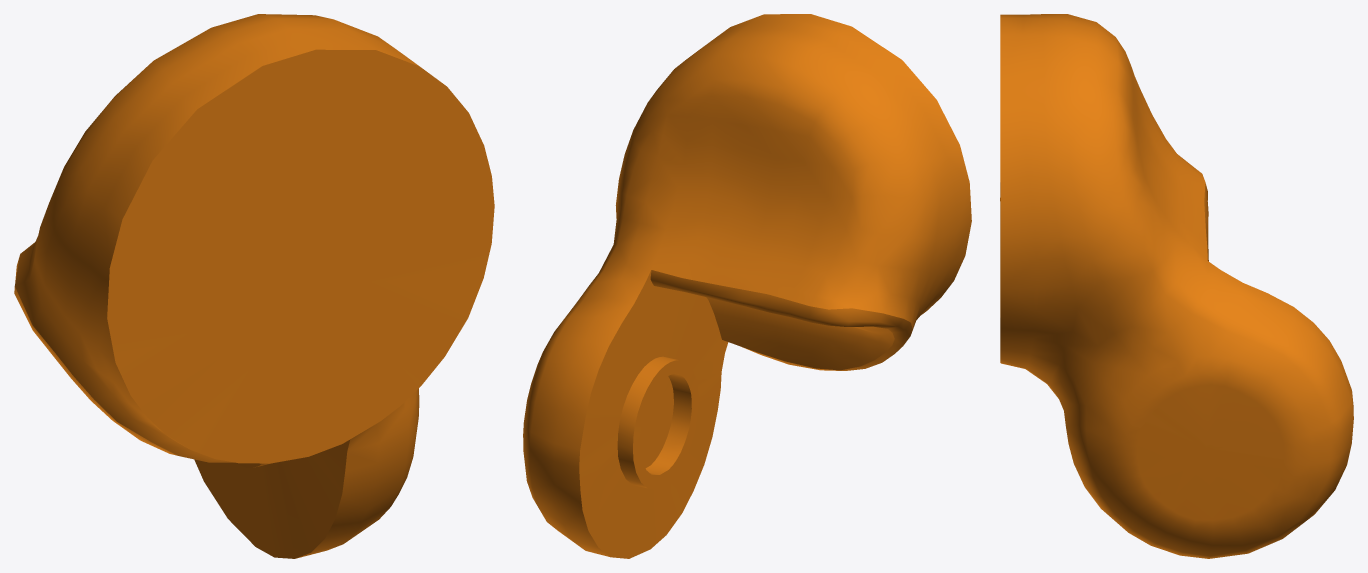
Rendered from Neck_Lower.dae.
The picture shows the model from 3 angles, left to right: view 1: azimuth 30°, elevation 25°; view 2: azimuth 150°, elevation 25°; view 3: azimuth 270°, elevation 25°; orthographic projection. The views are drawn at different scales.
Visible parts, largest first — view 1: Mesh; view 2: Mesh; view 3: Mesh.
Boxes of the visible parts, <box> form: Mesh: <box>14,14,494,558</box>; Mesh: <box>523,14,971,558</box>; Mesh: <box>1000,14,1353,558</box>.
Bounding box in the file's own units: 0.1268 × 0.1911 × 0.1279.
1 material, 1 textured.
